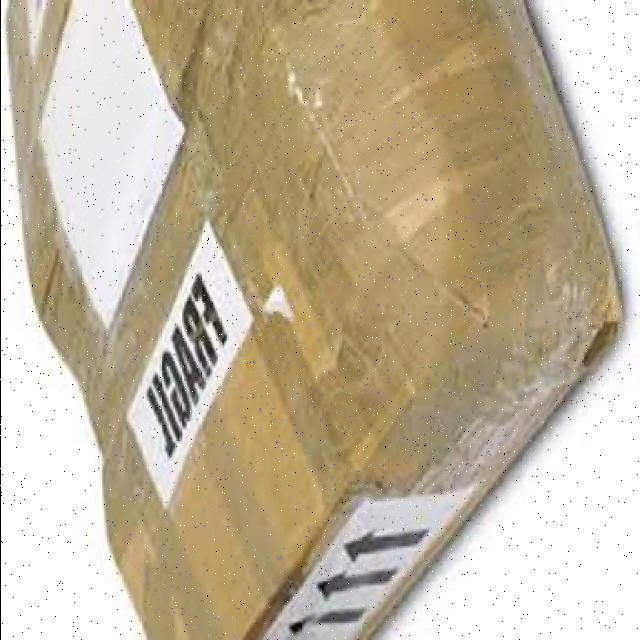defect: (1, 4, 612, 640)
